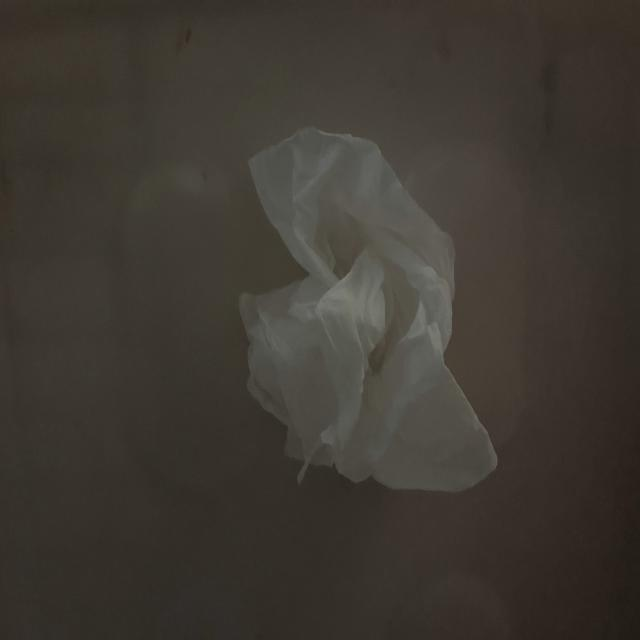Paper: (229, 126, 516, 499)
